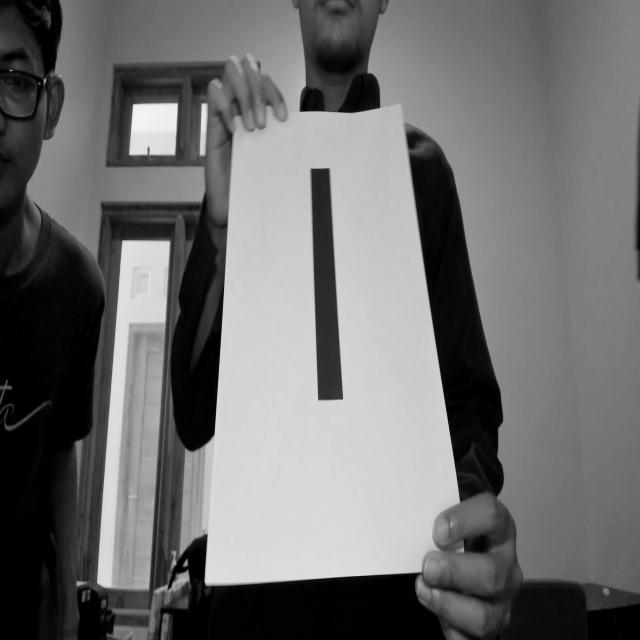i: (299, 157, 351, 450)
